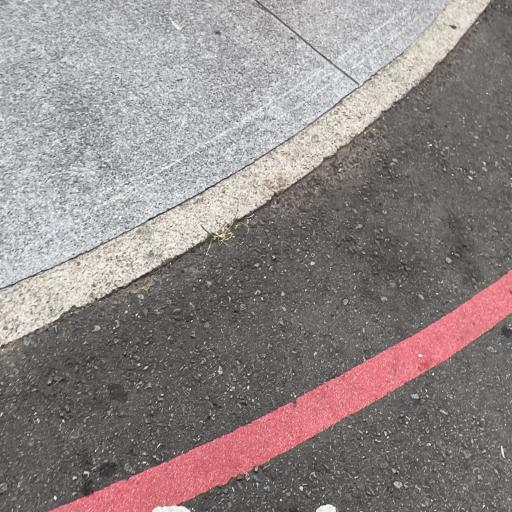redline: (47, 260, 512, 512)
